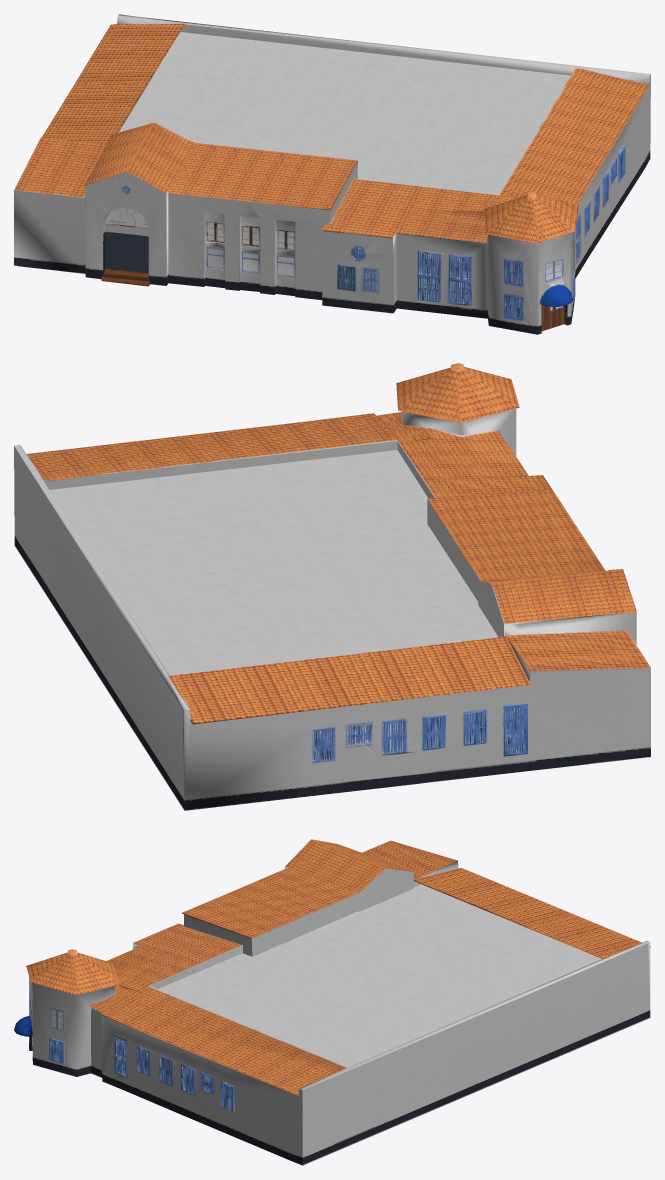
The picture shows the model from 3 angles, top to bottom: view 1: azimuth 30°, elevation 25°; view 2: azimuth 150°, elevation 25°; view 3: azimuth 270°, elevation 25°; orthographic projection. The views are drawn at different scales.
Parts seen in each view (by area): view 1: omnicommons; view 2: omnicommons; view 3: omnicommons.
Boxes of the visible parts, x1=… form: omnicommons: x1=14, y1=14, x2=650, y2=334; omnicommons: x1=14, y1=363, x2=650, y2=810; omnicommons: x1=14, y1=839, x2=650, y2=1165.
Size of the model in its own units: 28.38 by 5.49 by 29.7.
Materials: 1 (1 with a texture image).
